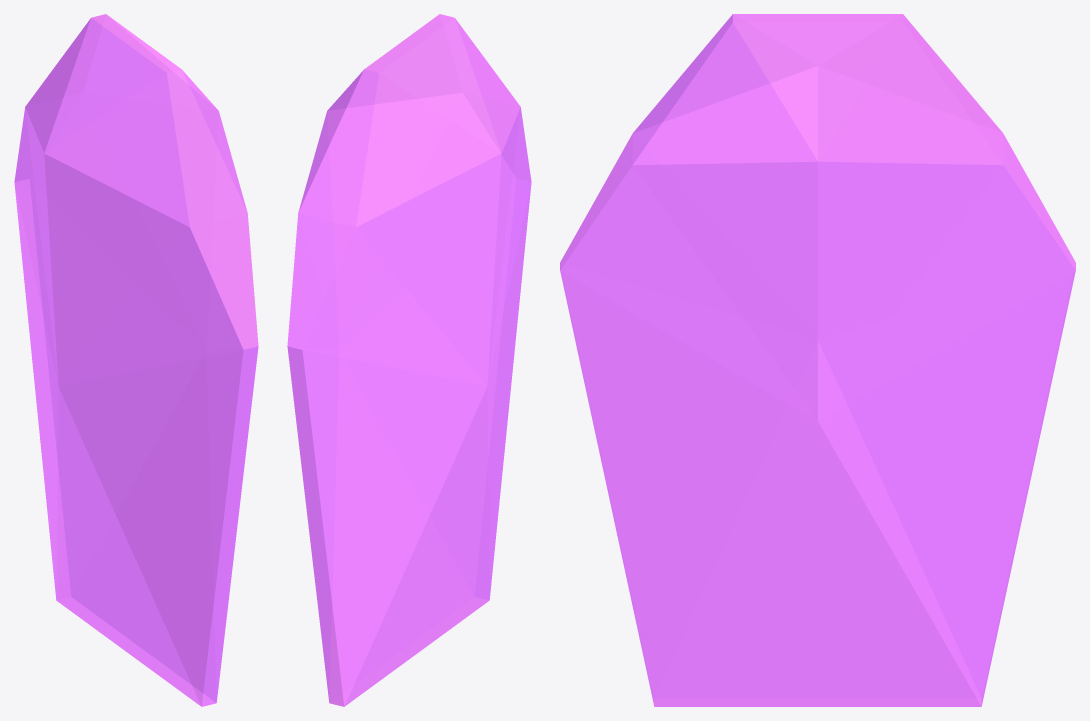
File: Rock_Candy_Shard.fbx
The picture shows the model from 3 angles, left to right: view 1: azimuth 30°, elevation 25°; view 2: azimuth 150°, elevation 25°; view 3: azimuth 270°, elevation 25°; orthographic projection. The views are drawn at different scales.
Visible parts, largest first — view 1: Rock candy shard; view 2: Rock candy shard; view 3: Rock candy shard.
Boxes of the visible parts, x1,y1,x2,y2 form: Rock candy shard: (14, 14, 258, 706); Rock candy shard: (287, 14, 531, 706); Rock candy shard: (560, 14, 1075, 706).
Size of the model in its own units: 3.15 by 1.39 by 4.62.
